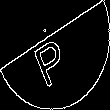P_NW: (33, 24, 77, 86)
